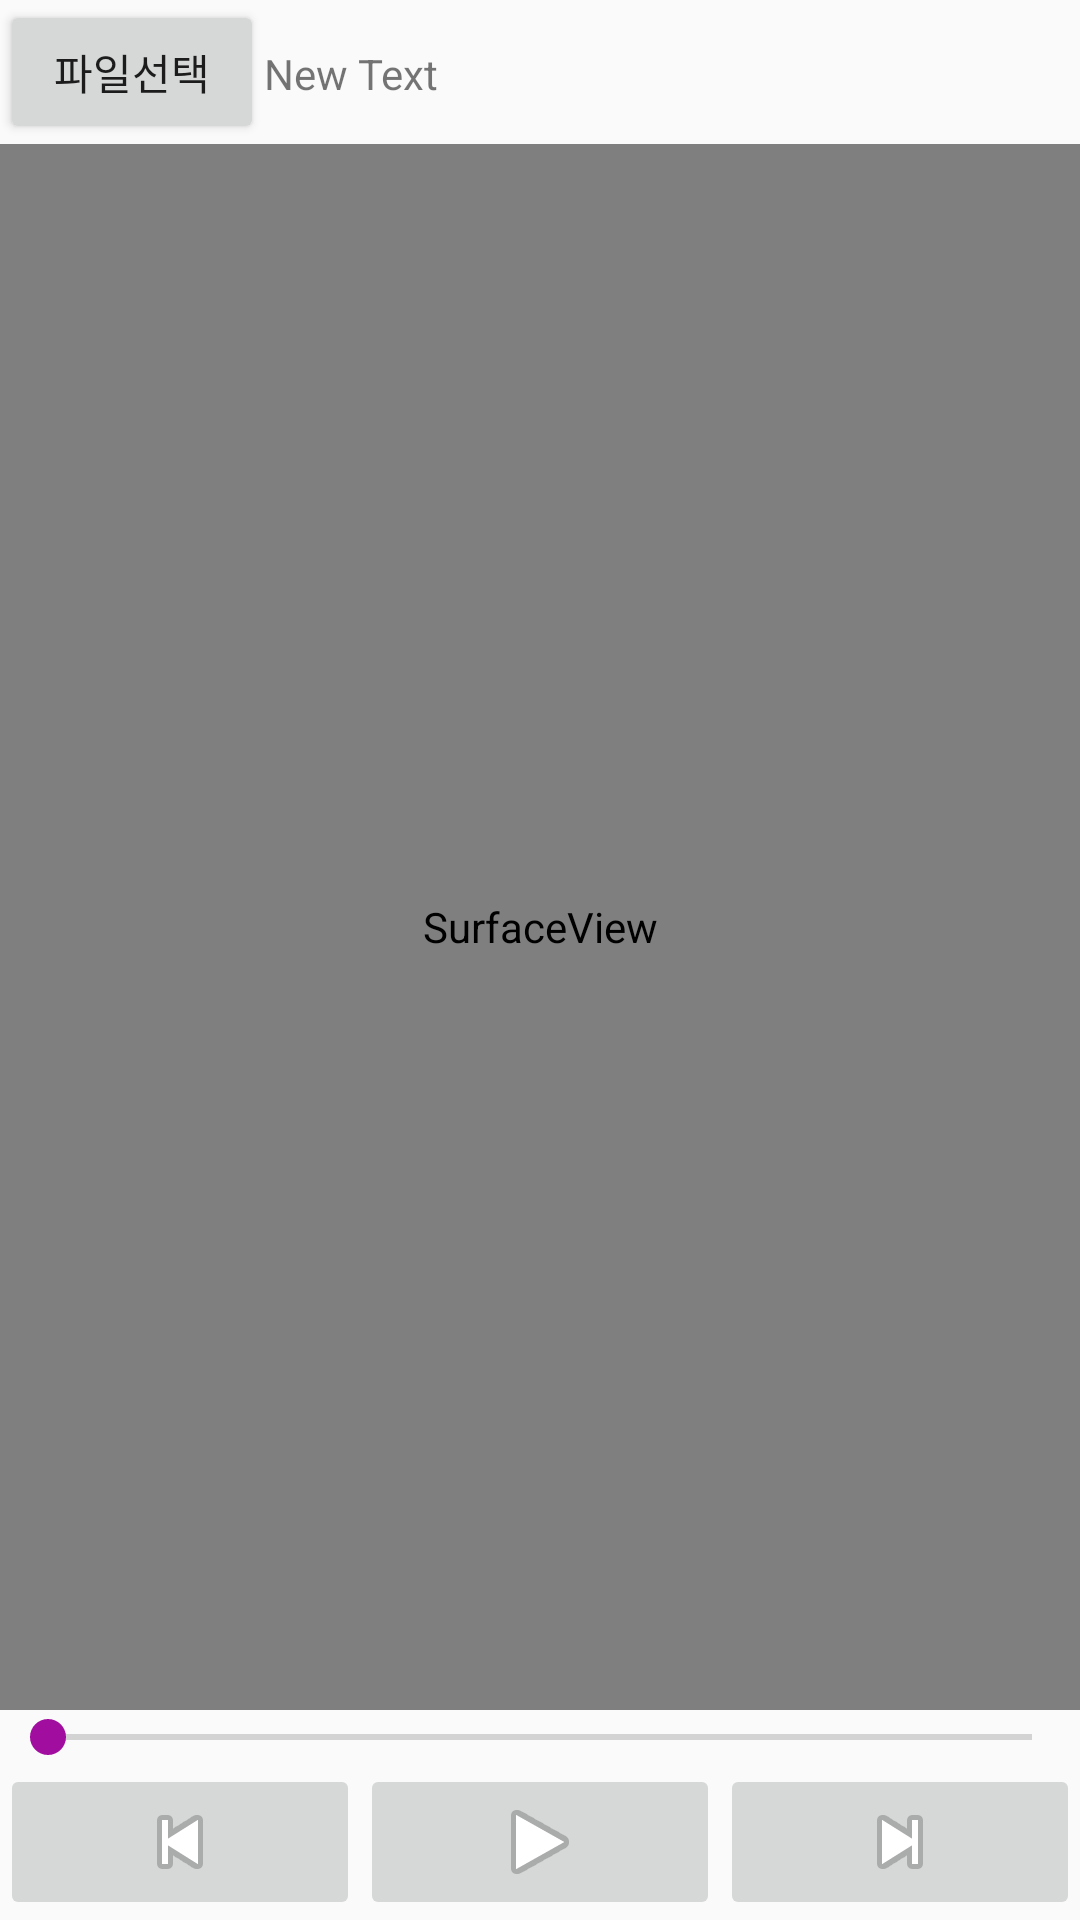

Named icons in this screenshot (1080 x 1920) and their centers, (x=x, y=y):
next: (x=900, y=1842)
play: (x=540, y=1842)
previous: (x=180, y=1842)
